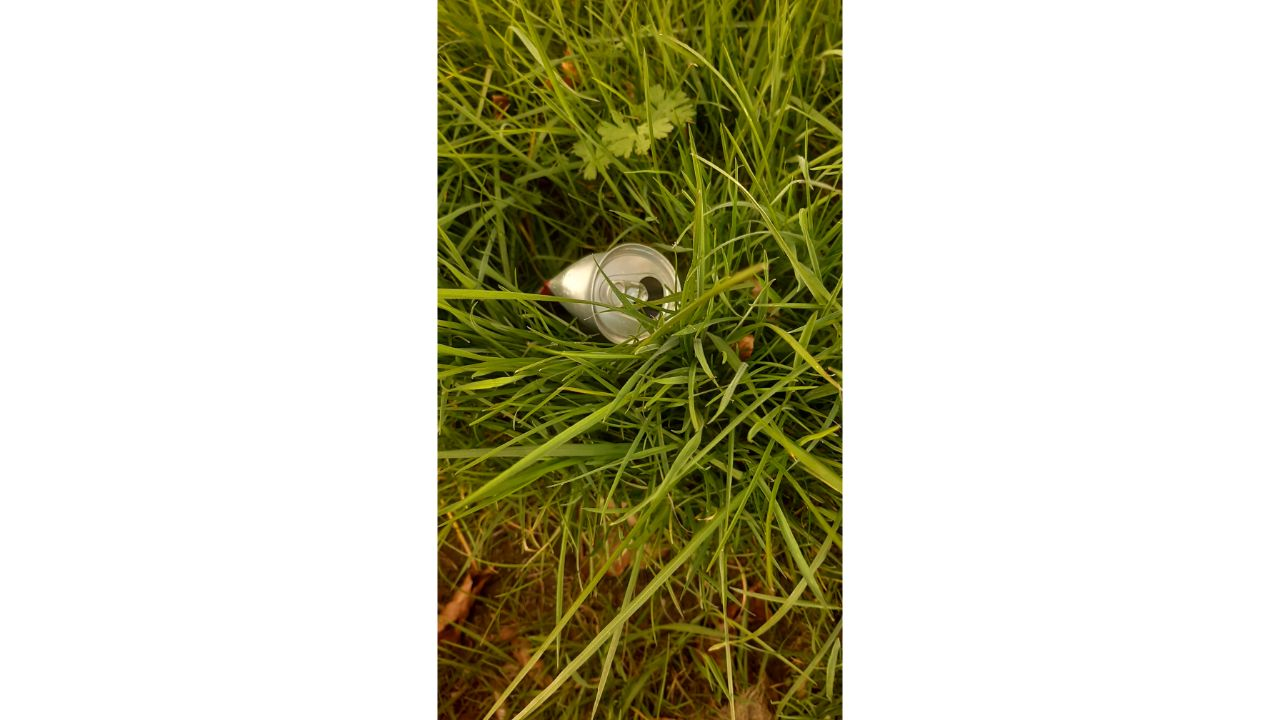Can: (521, 230, 699, 358)
